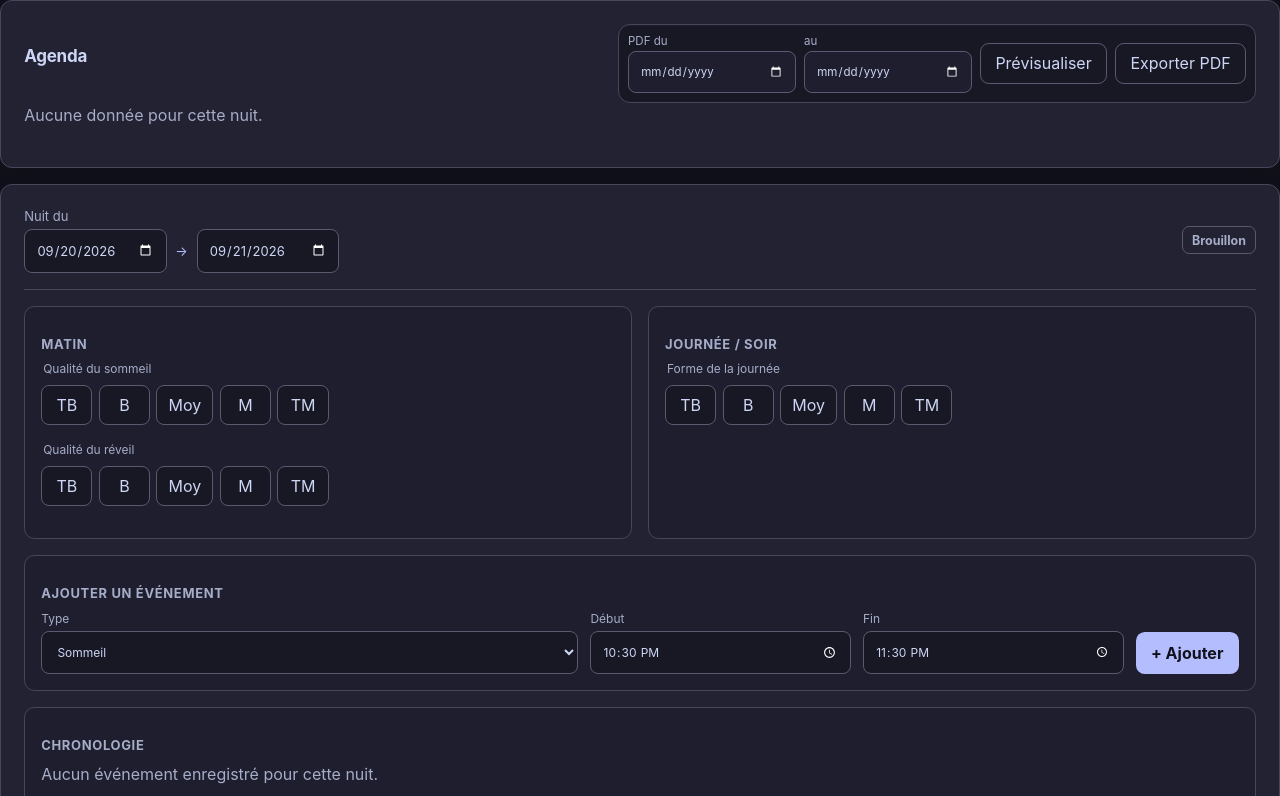
SleepDiaryWorkspace › ignores a stale diary read that finishes after a newer persisted revision
Select "Mise au lit" in the dropdown with test id "sleep-event-type" at (310, 652), box [41,631,578,674]
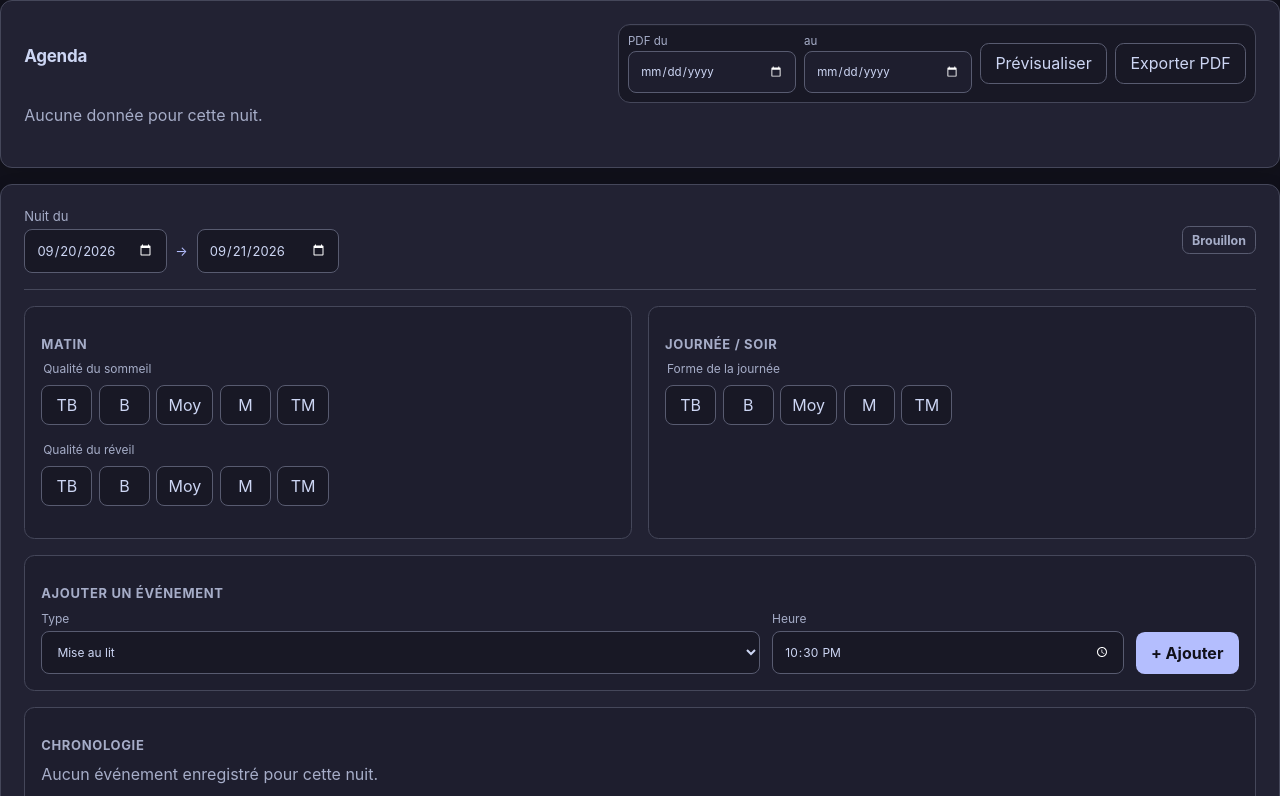
Replace the text in the time field with test id "sleep-event-start" with "22:45" at (948, 652), box [772,631,1124,674]
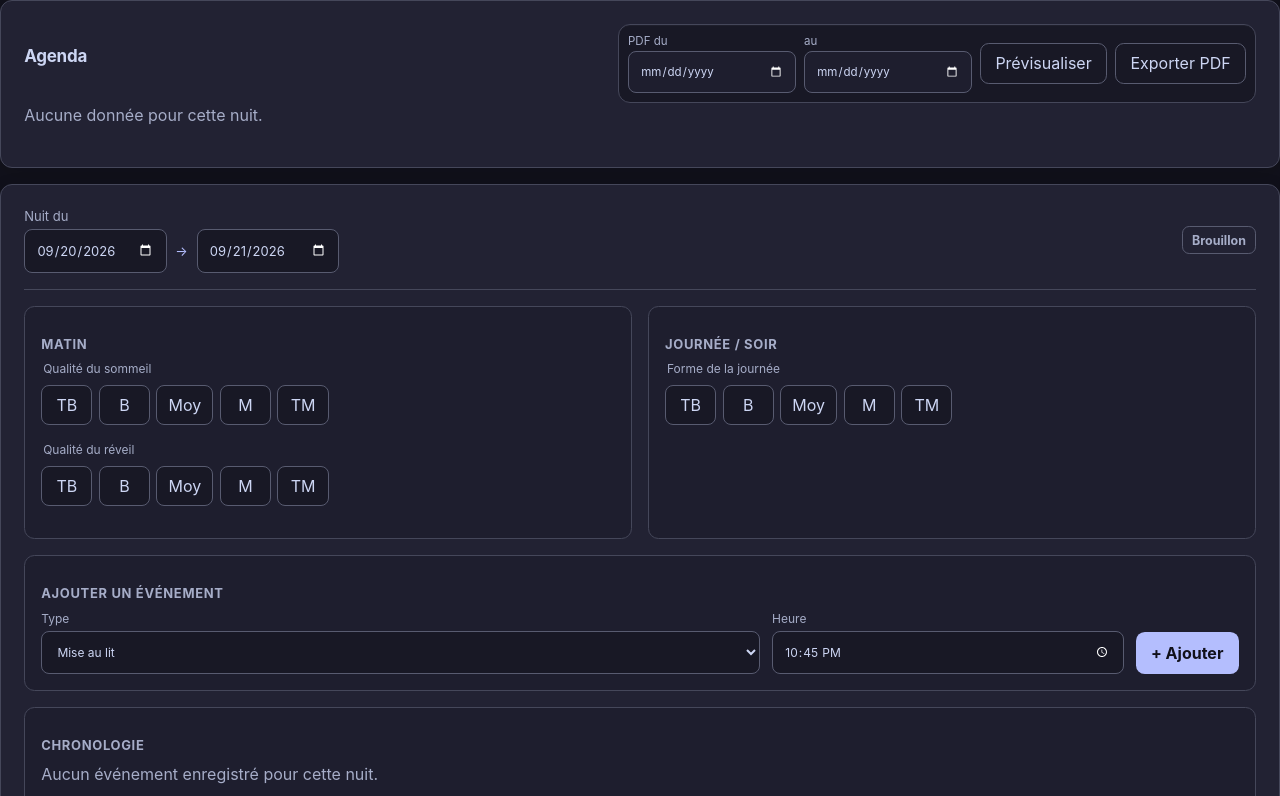
Click the button with test id "sleep-add-event" at (1187, 653), box [1136,632,1239,674]
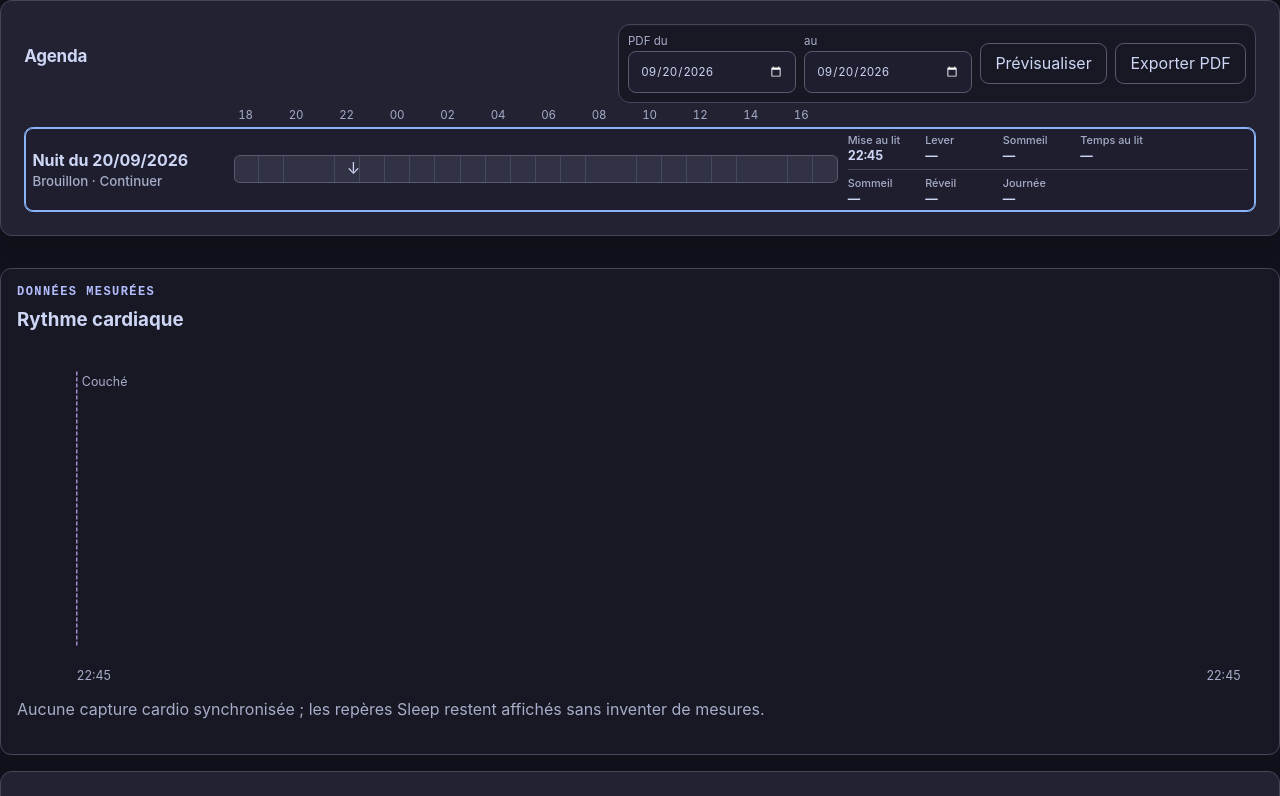
Expected: the element with test id "sleep-agenda-bed-time" shows "22:45", [848,148,883,163]
